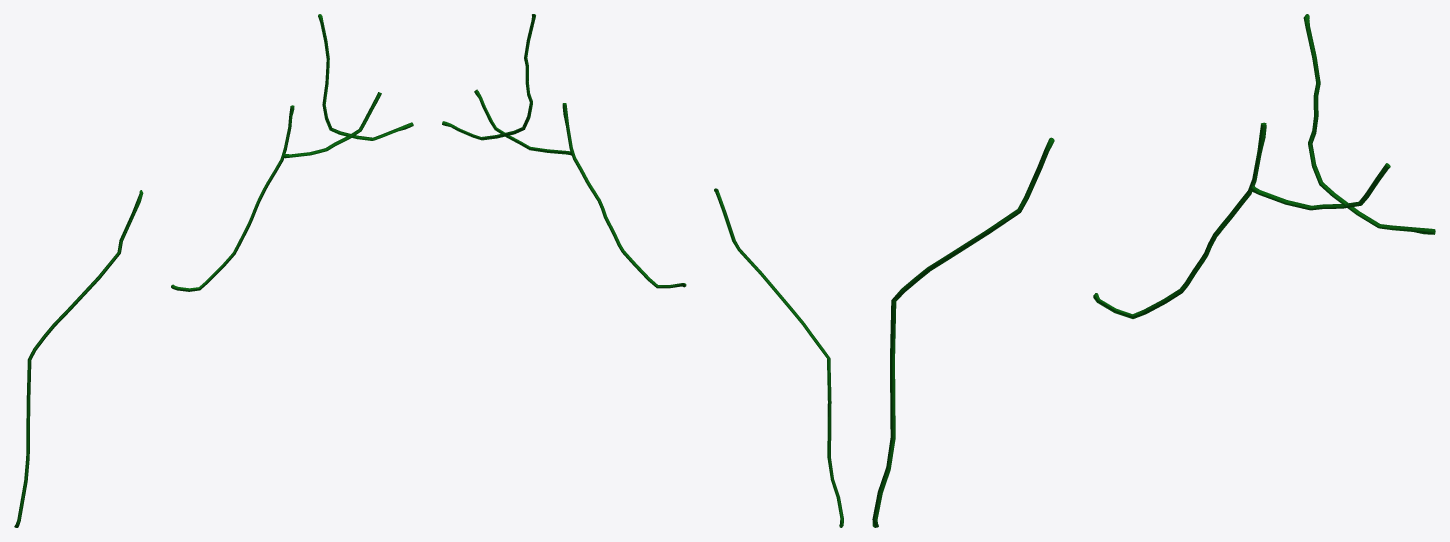
Rendered from SM_VineSet.003.fbx.
3 renders of one model, left to right at view 1: azimuth 30°, elevation 25°; view 2: azimuth 150°, elevation 25°; view 3: azimuth 330°, elevation 25°, orthographic. The views are drawn at different scales.
Visible parts, largest first — view 1: SM_VineSet_003; view 2: SM_VineSet_003; view 3: SM_VineSet_003.
Boxes of the visible parts, x1,y1,x2,y2 form: SM_VineSet_003: (14,14,413,527); SM_VineSet_003: (442,14,843,527); SM_VineSet_003: (872,14,1435,527).
Size of the model in its own units: 8.03 by 426 by 448.
